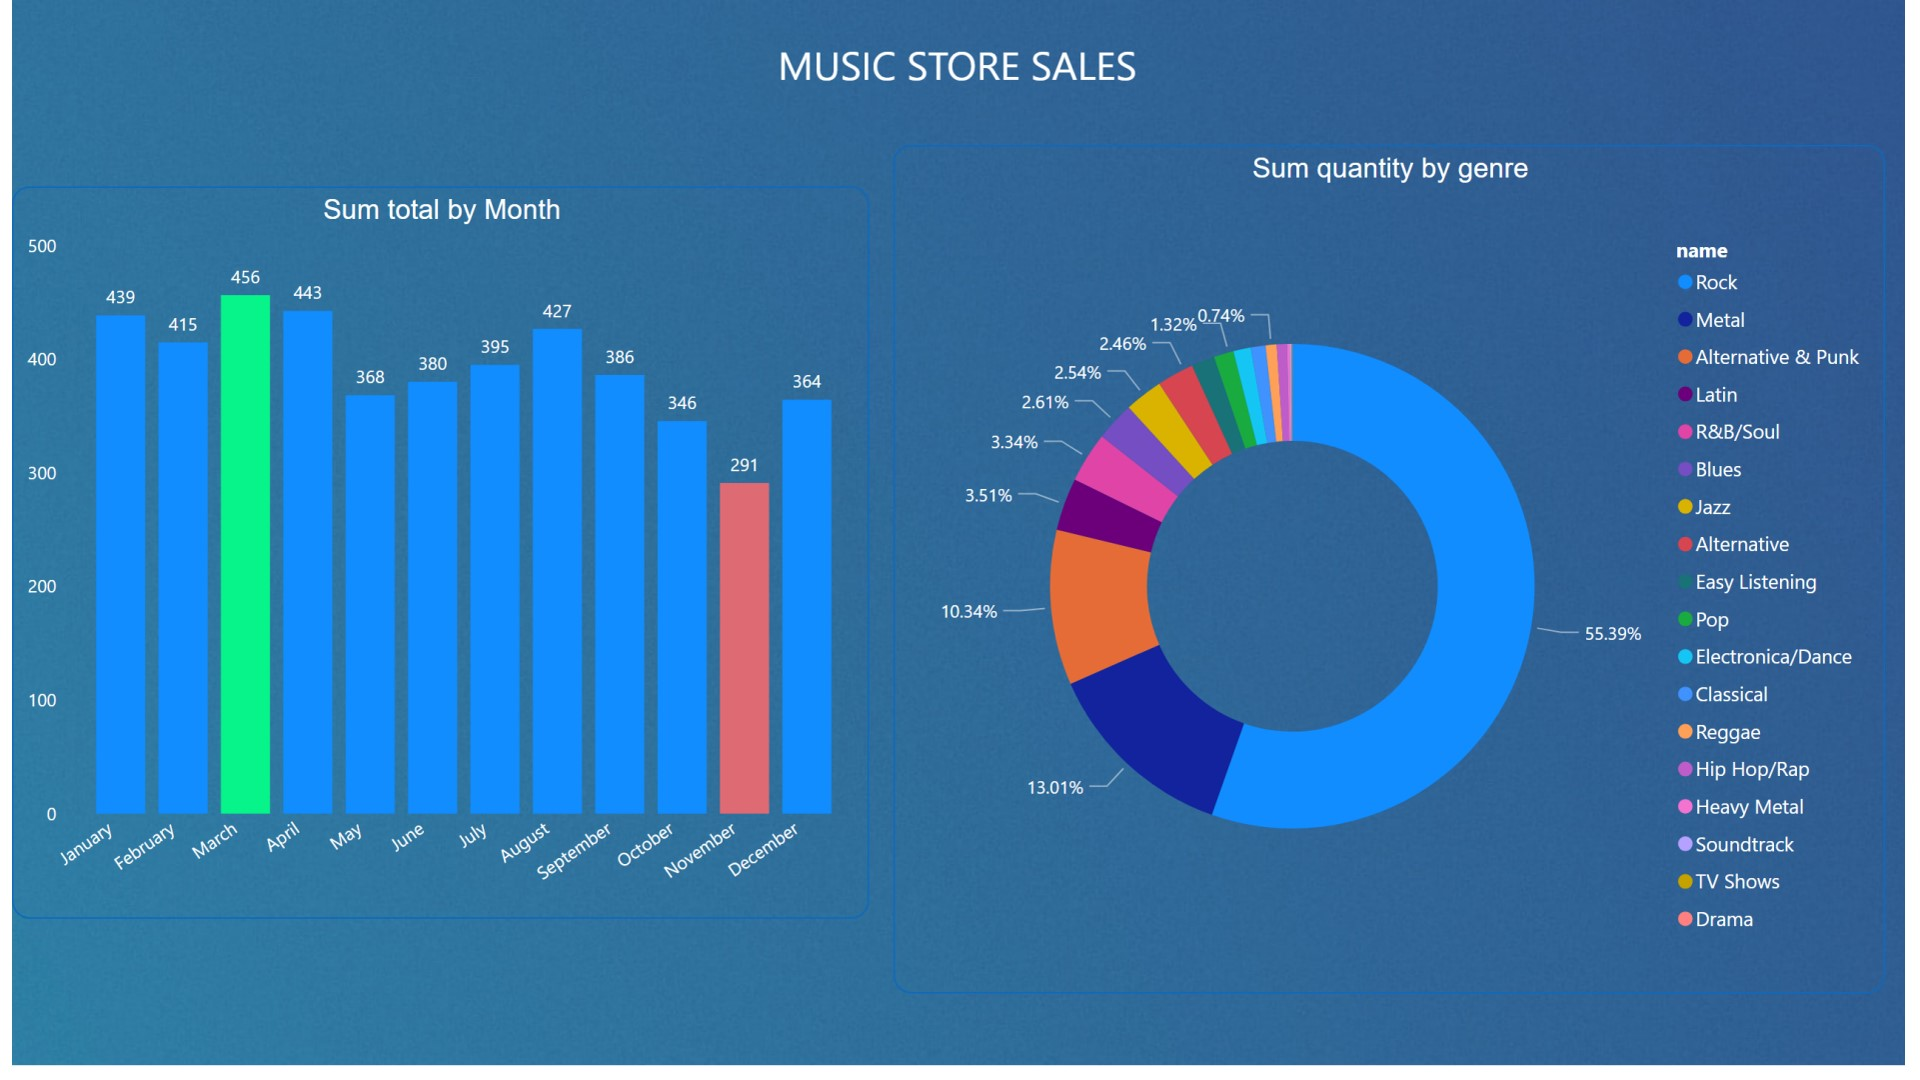

The dashboard page shown, as its layout file describes it:
{"tool":"powerbi","page":{"name":"Page 1","canvas":[1280,720],"ordinal":0},"visuals":[{"type":"textbox","box":[469,19.7,340.4,78.7],"z":0},{"type":"columnChart","title":"Sum total by Month","fields":{"Category":["public invoice.invoice_date.Variation.Date Hierarchy.Month"],"Y":["Sum(public invoice.total)"]},"box":[0,125.6,579.5,494.8],"z":1000},{"type":"donutChart","title":"Sum quantity by genre","fields":{"Category":["public genre.name"],"Y":["Sum(public invoice_line.quantity)"]},"box":[596.1,98.3,670.3,573.4],"z":2000}]}

Visuals, with their boxes in screenshot pixels (x1, y1, x2, y2), scaled from the page's 1280x720 canvas onto the 1920x1080 screenshot:
textbox: <region>704, 30, 1214, 148</region>
"Sum total by Month" columnChart: <region>0, 188, 869, 931</region>
"Sum quantity by genre" donutChart: <region>894, 147, 1900, 1008</region>
